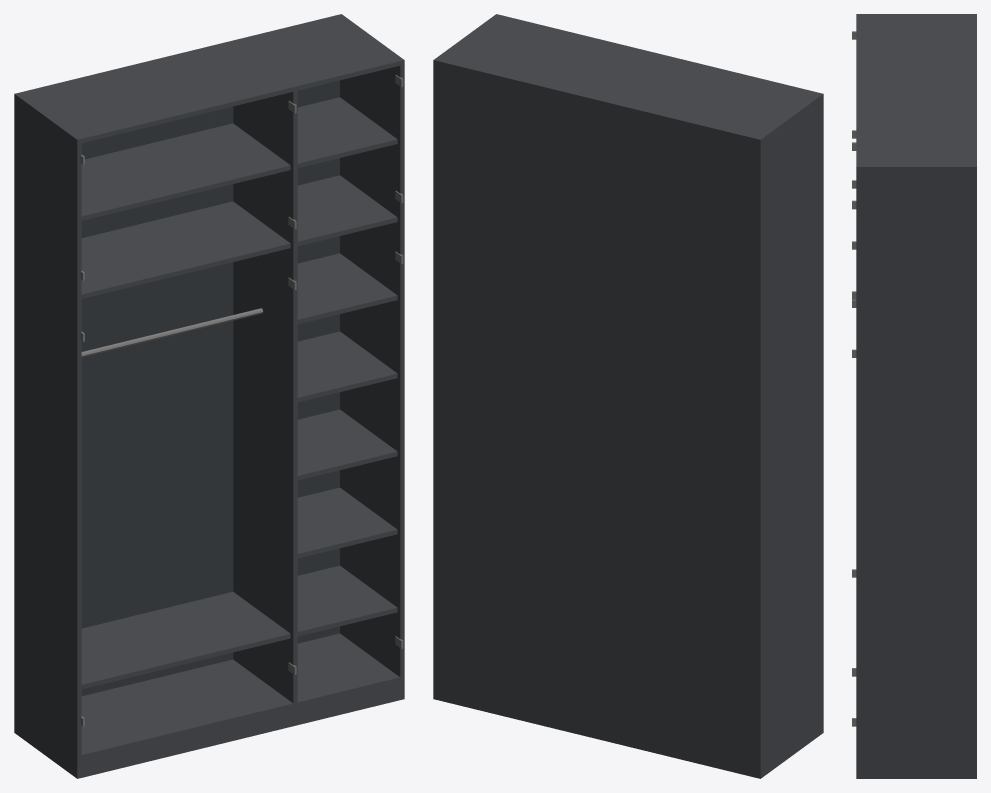
The model's file is Wardrobe8_C2.fbx.
The picture shows the model from 3 angles, left to right: view 1: azimuth 30°, elevation 25°; view 2: azimuth 150°, elevation 25°; view 3: azimuth 270°, elevation 25°; orthographic projection. The views are drawn at different scales.
Visible parts, largest first — view 1: Wardrobe8_C2; view 2: Wardrobe8_C2; view 3: Wardrobe8_C2.
Part boxes in pixels (x1,y1,x2,y2): Wardrobe8_C2: (14, 14, 404, 778); Wardrobe8_C2: (433, 14, 823, 778); Wardrobe8_C2: (852, 14, 976, 778).
Size of the model in its own units: 150 by 280 by 51.79.
